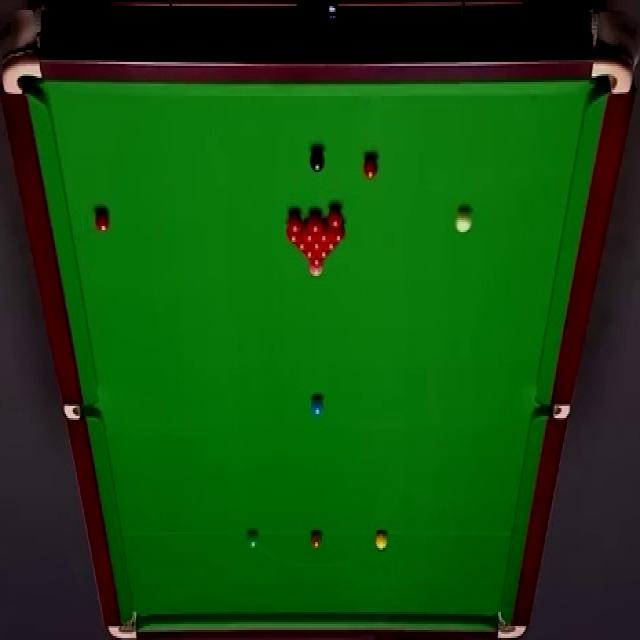black-ball: (310, 150, 324, 172)
blue-ball: (310, 397, 324, 418)
brown-ball: (310, 529, 323, 551)
green-ball: (247, 530, 260, 551)
pink-ball: (306, 264, 324, 278)
red-ball: (363, 155, 380, 180), (96, 208, 110, 233), (327, 207, 341, 228), (286, 225, 300, 244), (317, 222, 330, 242), (295, 230, 307, 251), (331, 223, 345, 241), (309, 213, 322, 232), (303, 221, 315, 241), (289, 213, 300, 232), (324, 242, 338, 250), (307, 242, 324, 248)
white-ball: (453, 208, 472, 232)
yellow-ball: (375, 530, 387, 550)
